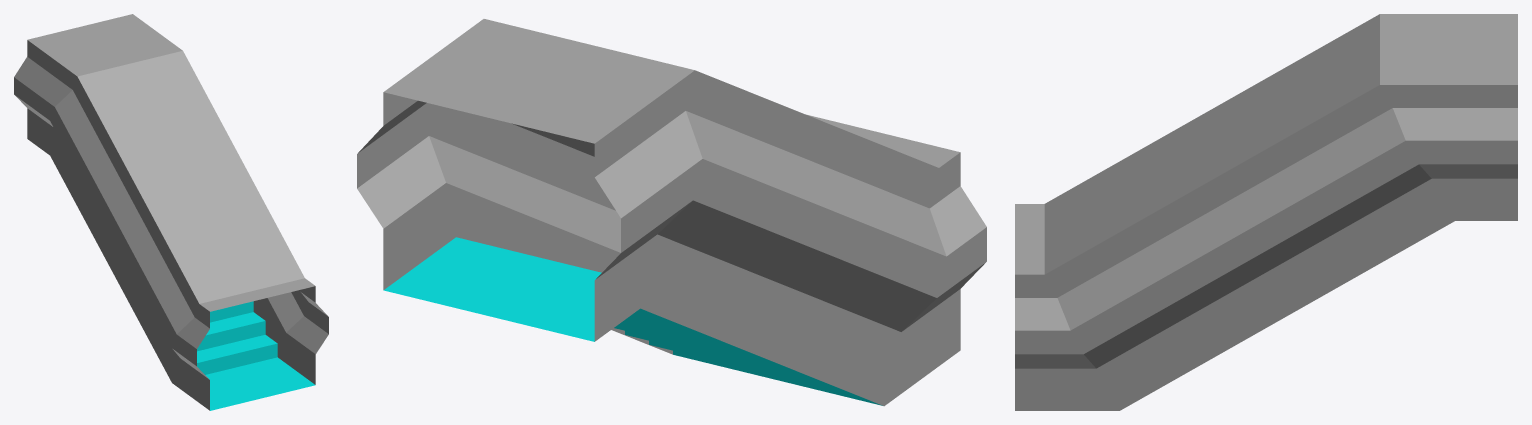
The model's file is sm_hallway_stairwell.fbx.
3 views of the same model, side by side, from view 1: azimuth 30°, elevation 25°; view 2: azimuth 150°, elevation 25°; view 3: azimuth 270°, elevation 25° (orthographic). The views are drawn at different scales.
Parts seen in each view (by area): view 1: sm_hallway_stairwell; view 2: sm_hallway_stairwell; view 3: sm_hallway_stairwell.
Boxes of the visible parts, box(x1,y1,x2,y2) form: sm_hallway_stairwell: box(14, 14, 328, 410); sm_hallway_stairwell: box(357, 19, 986, 406); sm_hallway_stairwell: box(1015, 14, 1517, 410).
Bounding box in the file's own units: 10 × 17.17 × 24.
